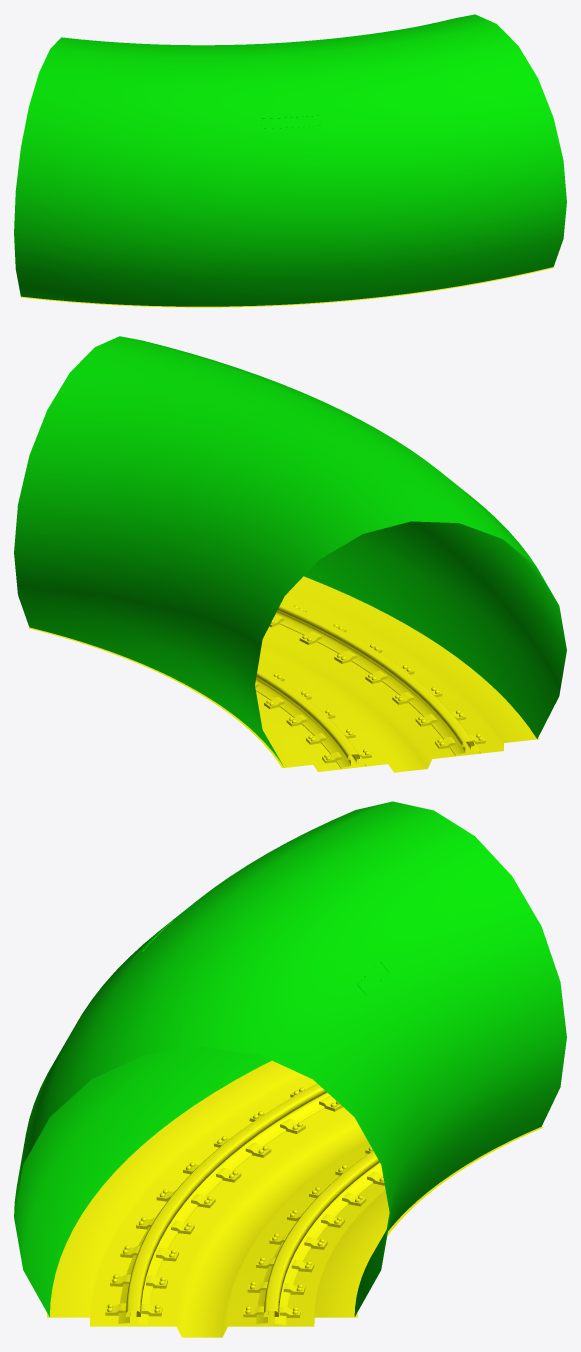
Rendered from TrainTrack_bend.fbx.
3 renders of one model, top to bottom at view 1: azimuth 30°, elevation 25°; view 2: azimuth 150°, elevation 25°; view 3: azimuth 270°, elevation 25°, orthographic. The views are drawn at different scales.
Visible parts, largest first — view 1: TrainTrack_bend; view 2: TrainTrack_bend; view 3: TrainTrack_bend.
Part boxes in pixels (left/top/right/bottom): TrainTrack_bend: left=14, top=14, right=566, bottom=307; TrainTrack_bend: left=14, top=336, right=566, bottom=772; TrainTrack_bend: left=14, top=801, right=566, bottom=1337.
Size of the model in its own units: 4458 by 2065 by 3561.
